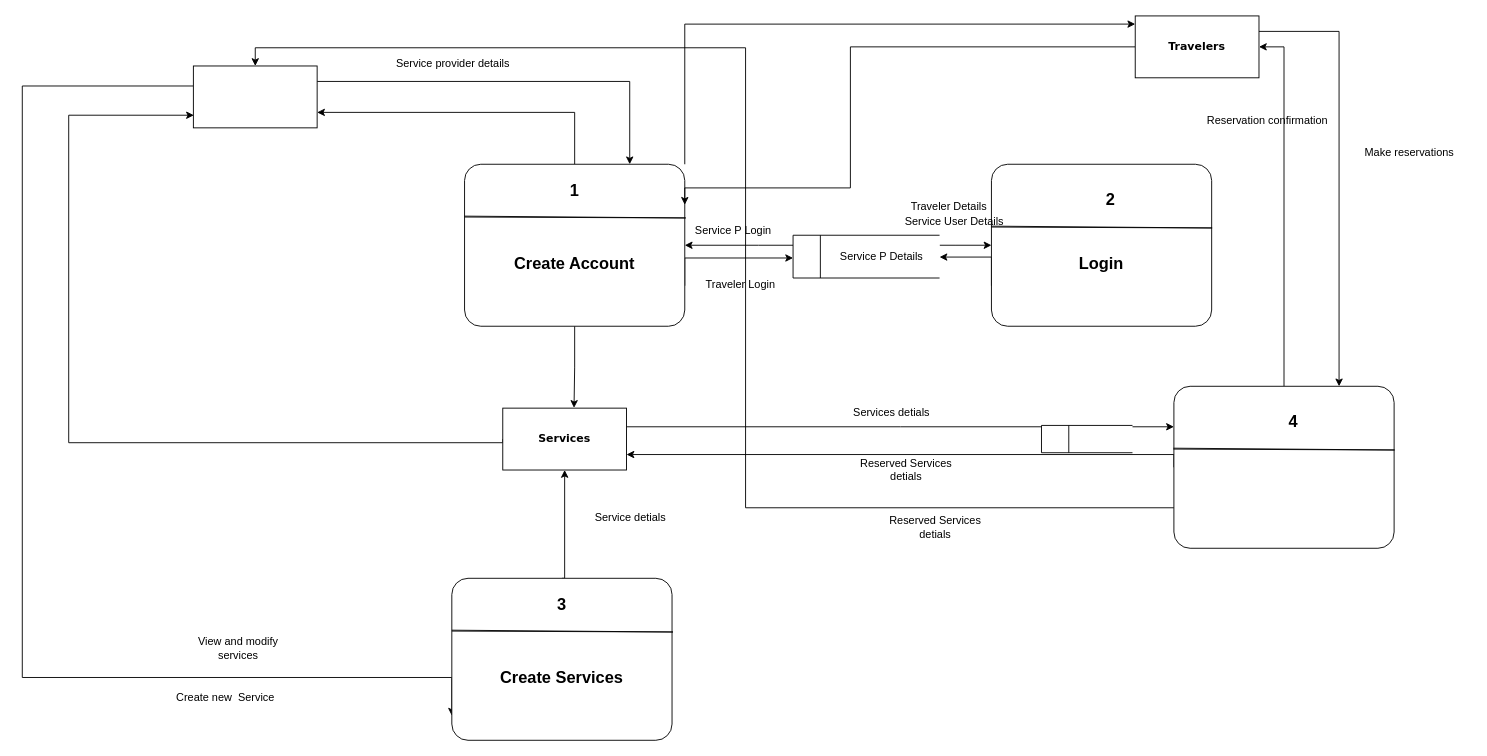
This 1487x756 diagram has some shape labels left out. The shapes that lost their labels are listed below. From the top down, each one's box as (x1, y1, x2, y2) in pixels, then its label:
(192, 65, 317, 128): Service provider
(1041, 425, 1132, 453): Reservation details
(1173, 385, 1394, 548): Reservation
